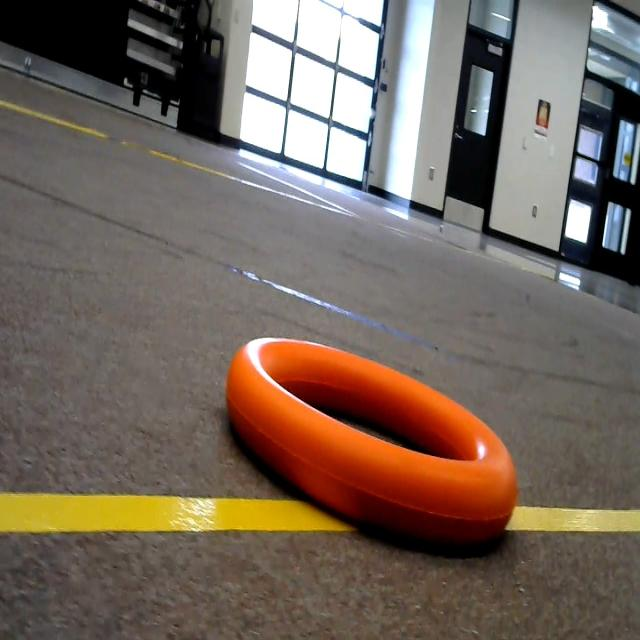note: (217, 302, 524, 556)
